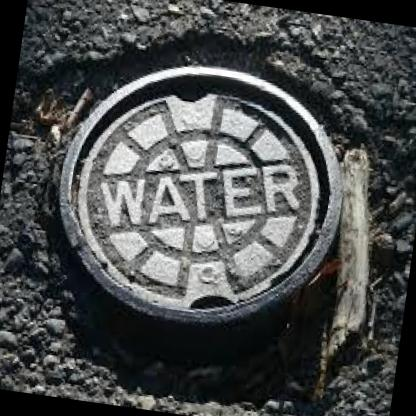manholes: (9, 15, 387, 385)
